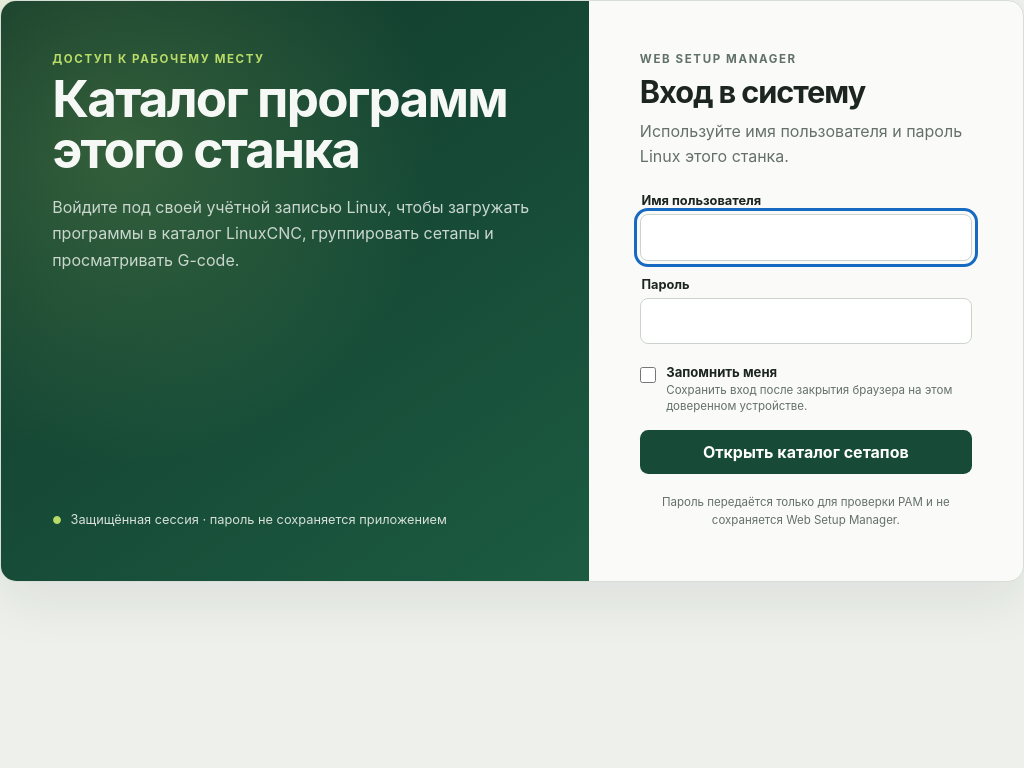
Test: LoginView › uses a generic rejection, clears the password and returns focus to it
Type "unknown" into the field labelled "Имя пользователя".
click(806, 237); type("unknown")  # box [640,214,972,261]
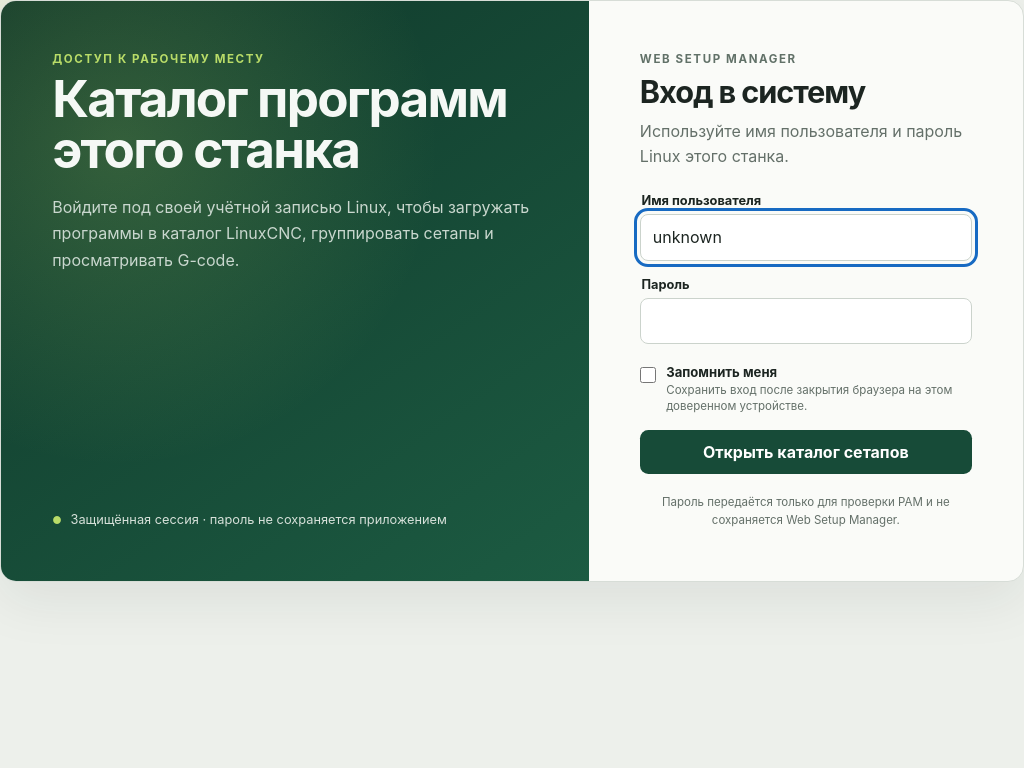
Type "wrong" into the password field labelled "Пароль".
click(806, 321); type("wrong")  # box [640,298,972,344]
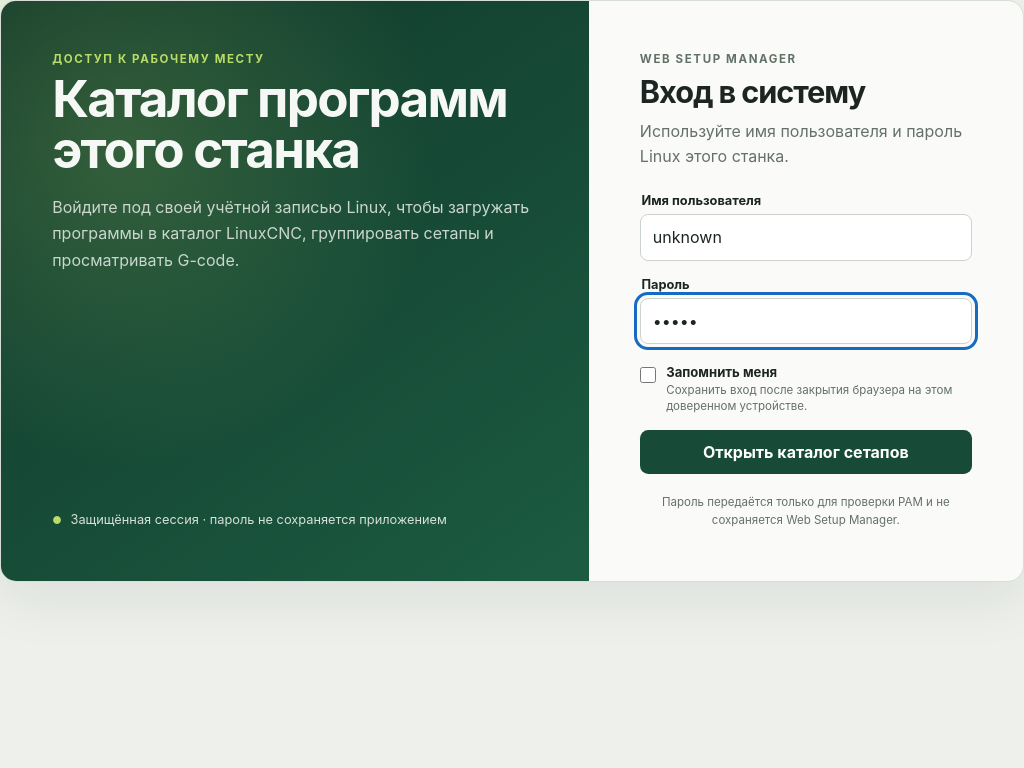
Click the button "Открыть каталог сетапов".
click(806, 452)  # box [640,430,972,474]
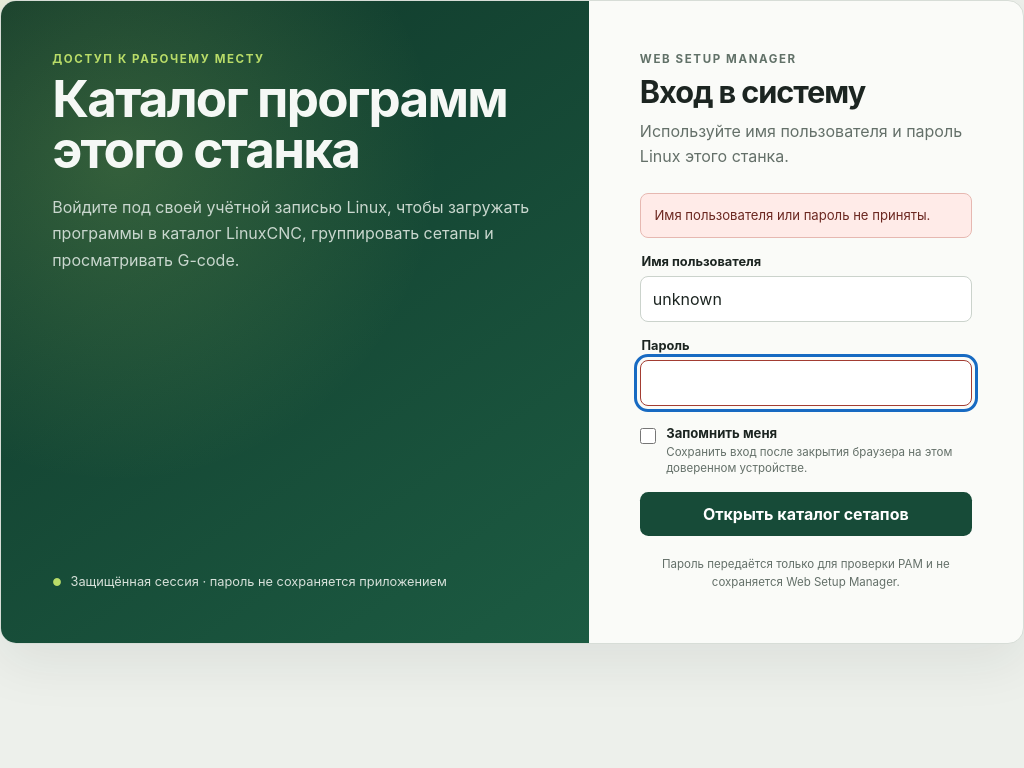
Expected: the message shows "Имя пользователя или пароль не приняты", [654,207,930,223]
Expected: the password field labelled "Пароль" is empty, [640,360,972,406]
